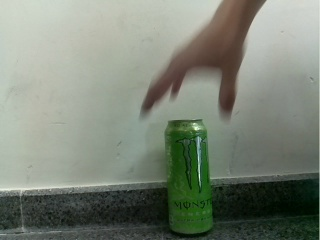botella plastico: (164, 118, 213, 234)
